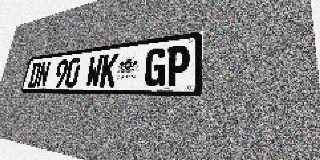0: (64, 57, 81, 87)
9: (53, 59, 69, 87)
D: (27, 62, 42, 88)
G: (143, 47, 167, 87)
K: (99, 53, 119, 87)
N: (36, 61, 51, 88)
P: (165, 44, 190, 86)
W: (85, 55, 104, 87)
